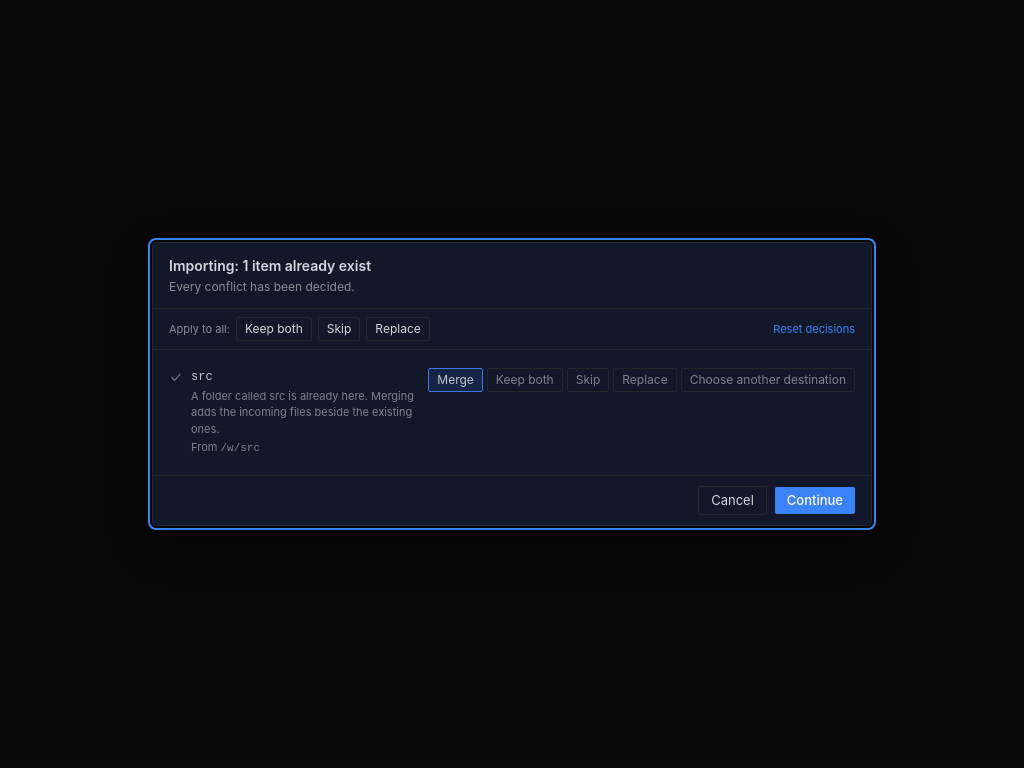
it: refusing a destination the plan cannot take › refuses moving a folder into itself
The width and height of the screenshot is (1024, 768).
Click the button with aria-label "Choose another destination for src" at [768, 380], box x1=681 y1=368 x2=855 y2=392
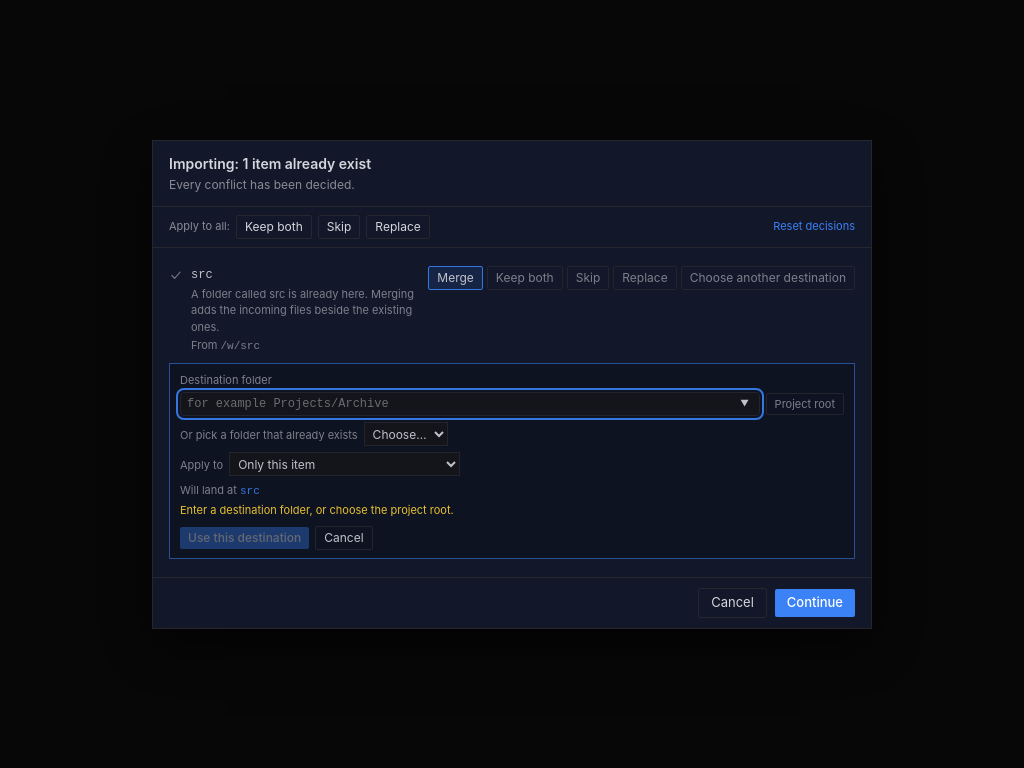
Type "src/nested" into the field labelled "Destination folder" at [470, 404], box x1=180 y1=392 x2=760 y2=416
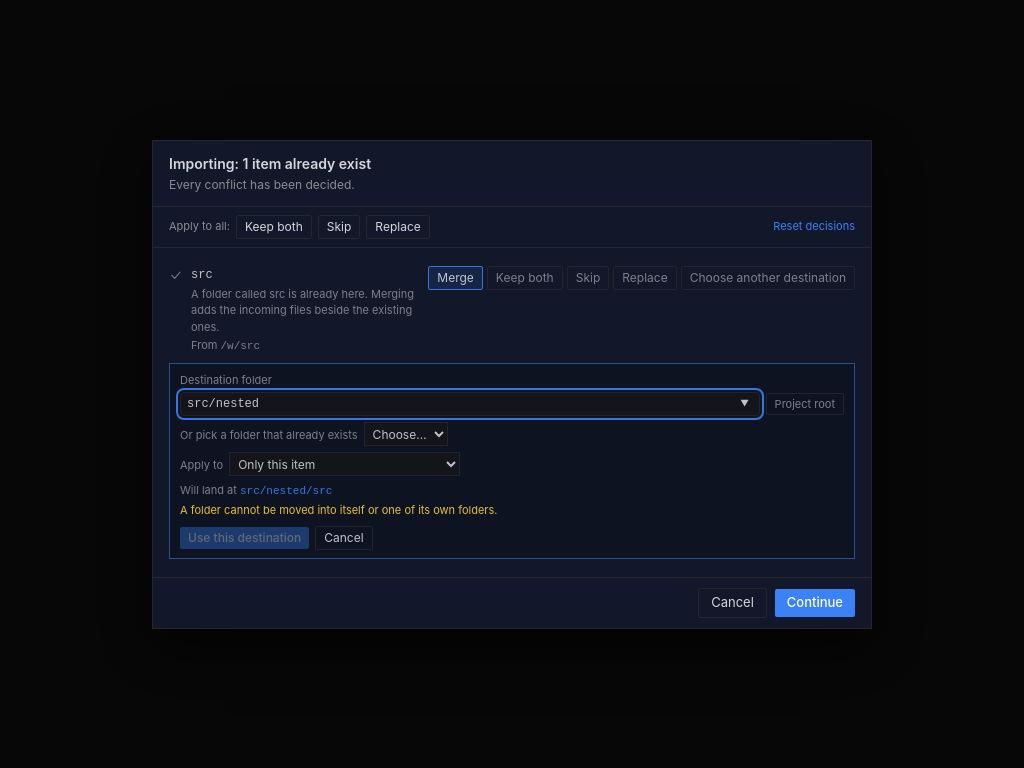
Result: the message reads "A folder cannot be moved into itself or one of its own folders." at x1=180 y1=502 x2=498 y2=516
